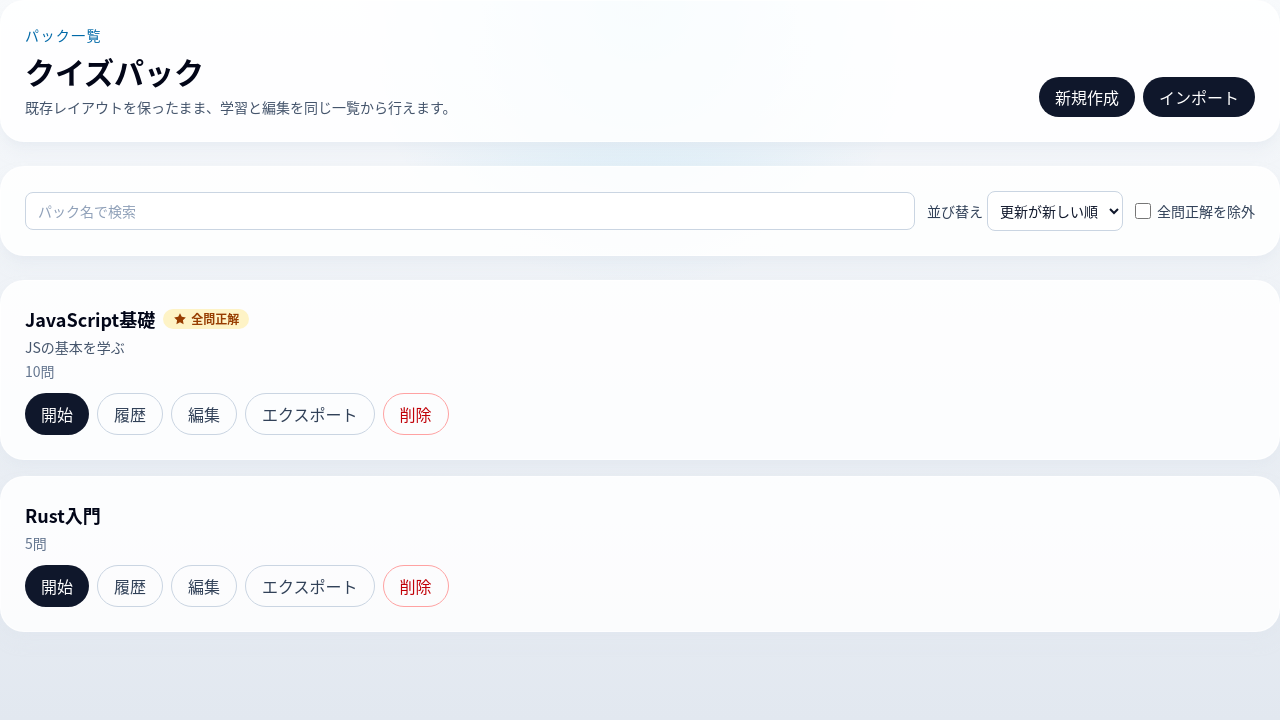
Test: HomePage › 検索・ソート・フィルター › 全問正解を除外チェックボックスが動作する
Check: the number of elements with test id "pack-card" is 2, box x1=0 y1=280 x2=1279 y2=460; x1=0 y1=476 x2=1279 y2=632
Click the checkbox labelled "全問正解を除外".
click(1143, 211)  # box x1=1135 y1=203 x2=1151 y2=219
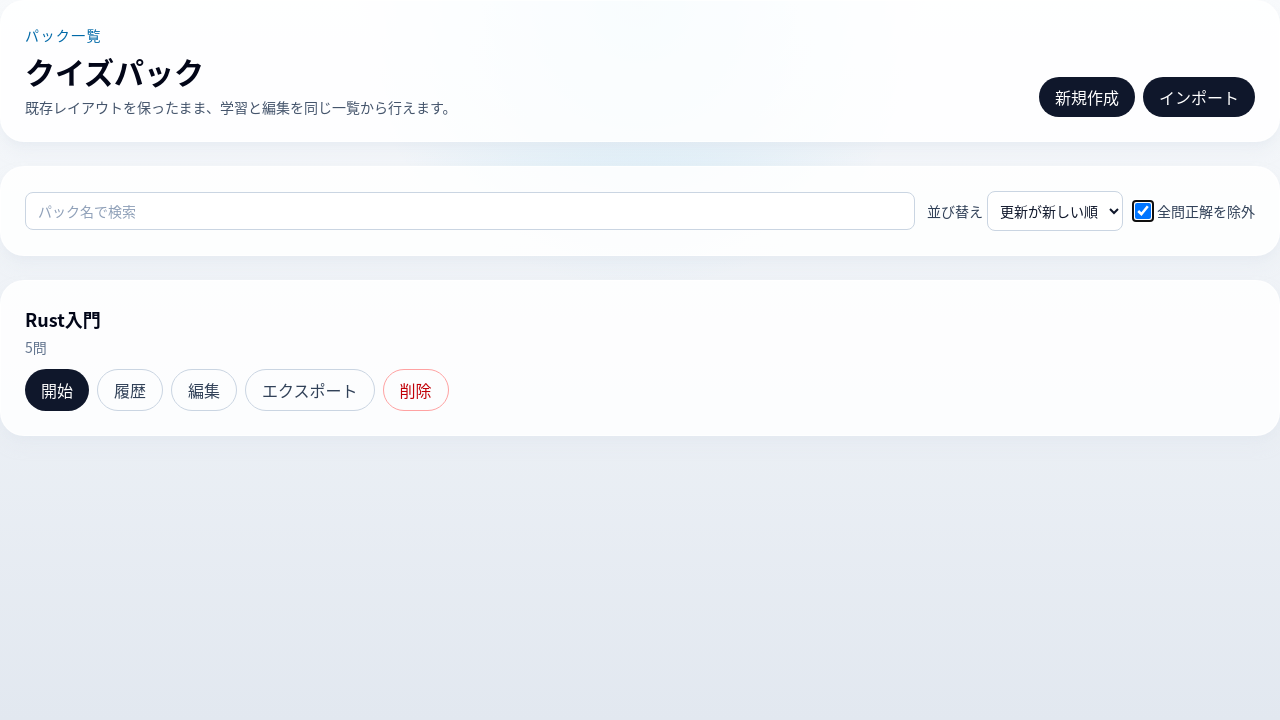
Check: the heading "Rust入門" is shown, box x1=25 y1=305 x2=101 y2=333
Check: the number of elements with test id "pack-card" is 1, box x1=0 y1=280 x2=1279 y2=436
